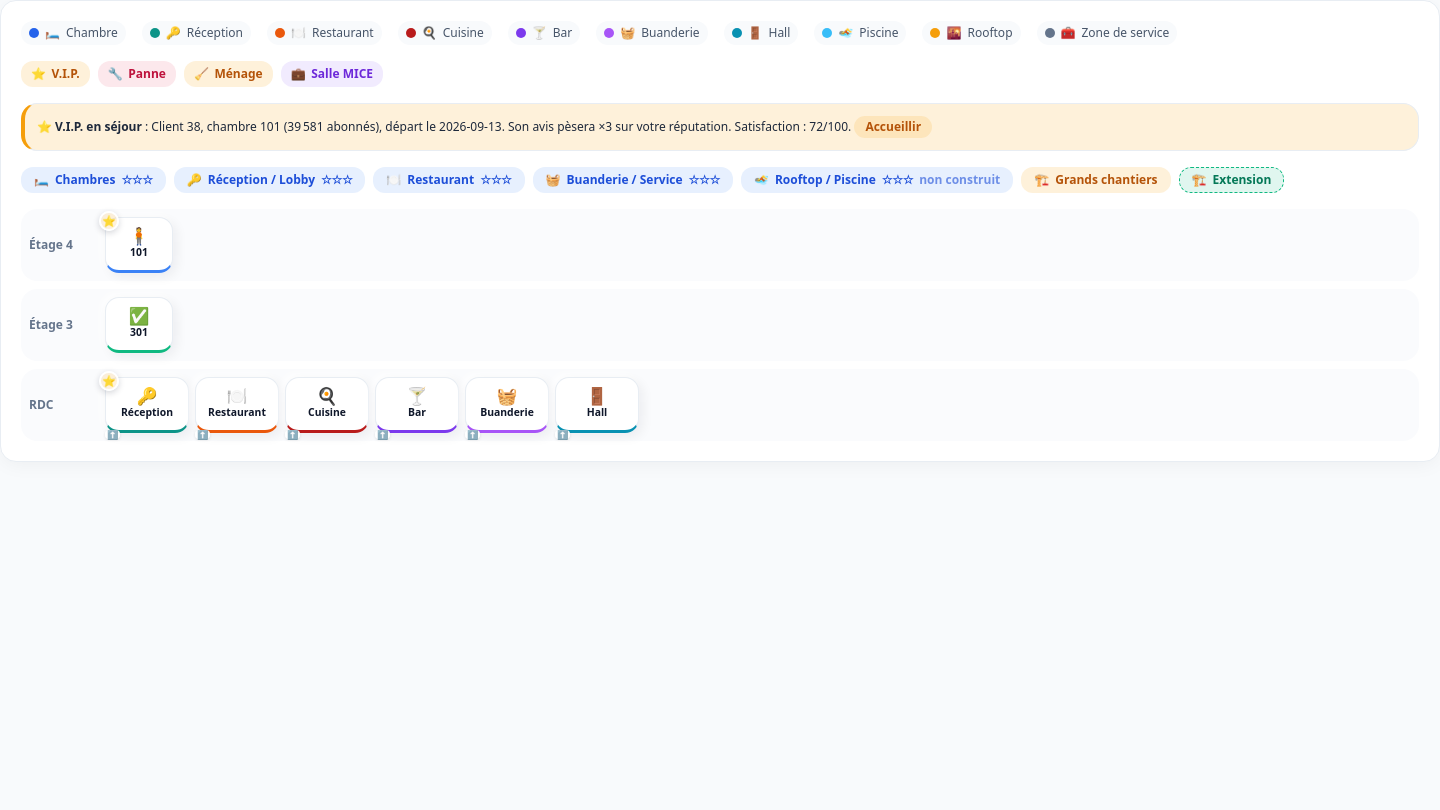
Scenario: SchematicHotelView / V.I.P. welcome modal › so does the occupied room itself
Click the button with test id "schematic-room-101". click: (139, 245)
box: [105,217,173,273]
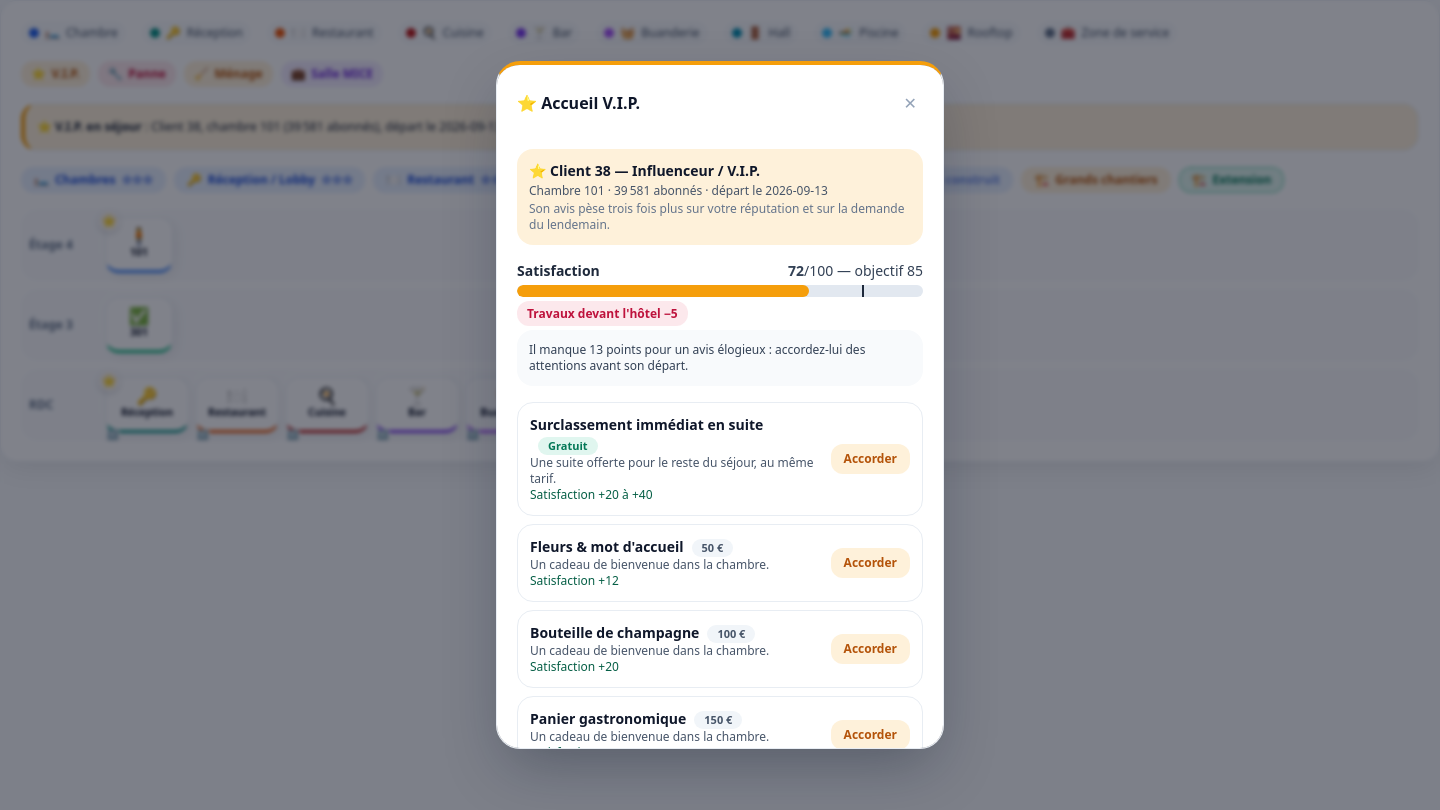
Check: the dialog "Accueil V.I.P." is shown
